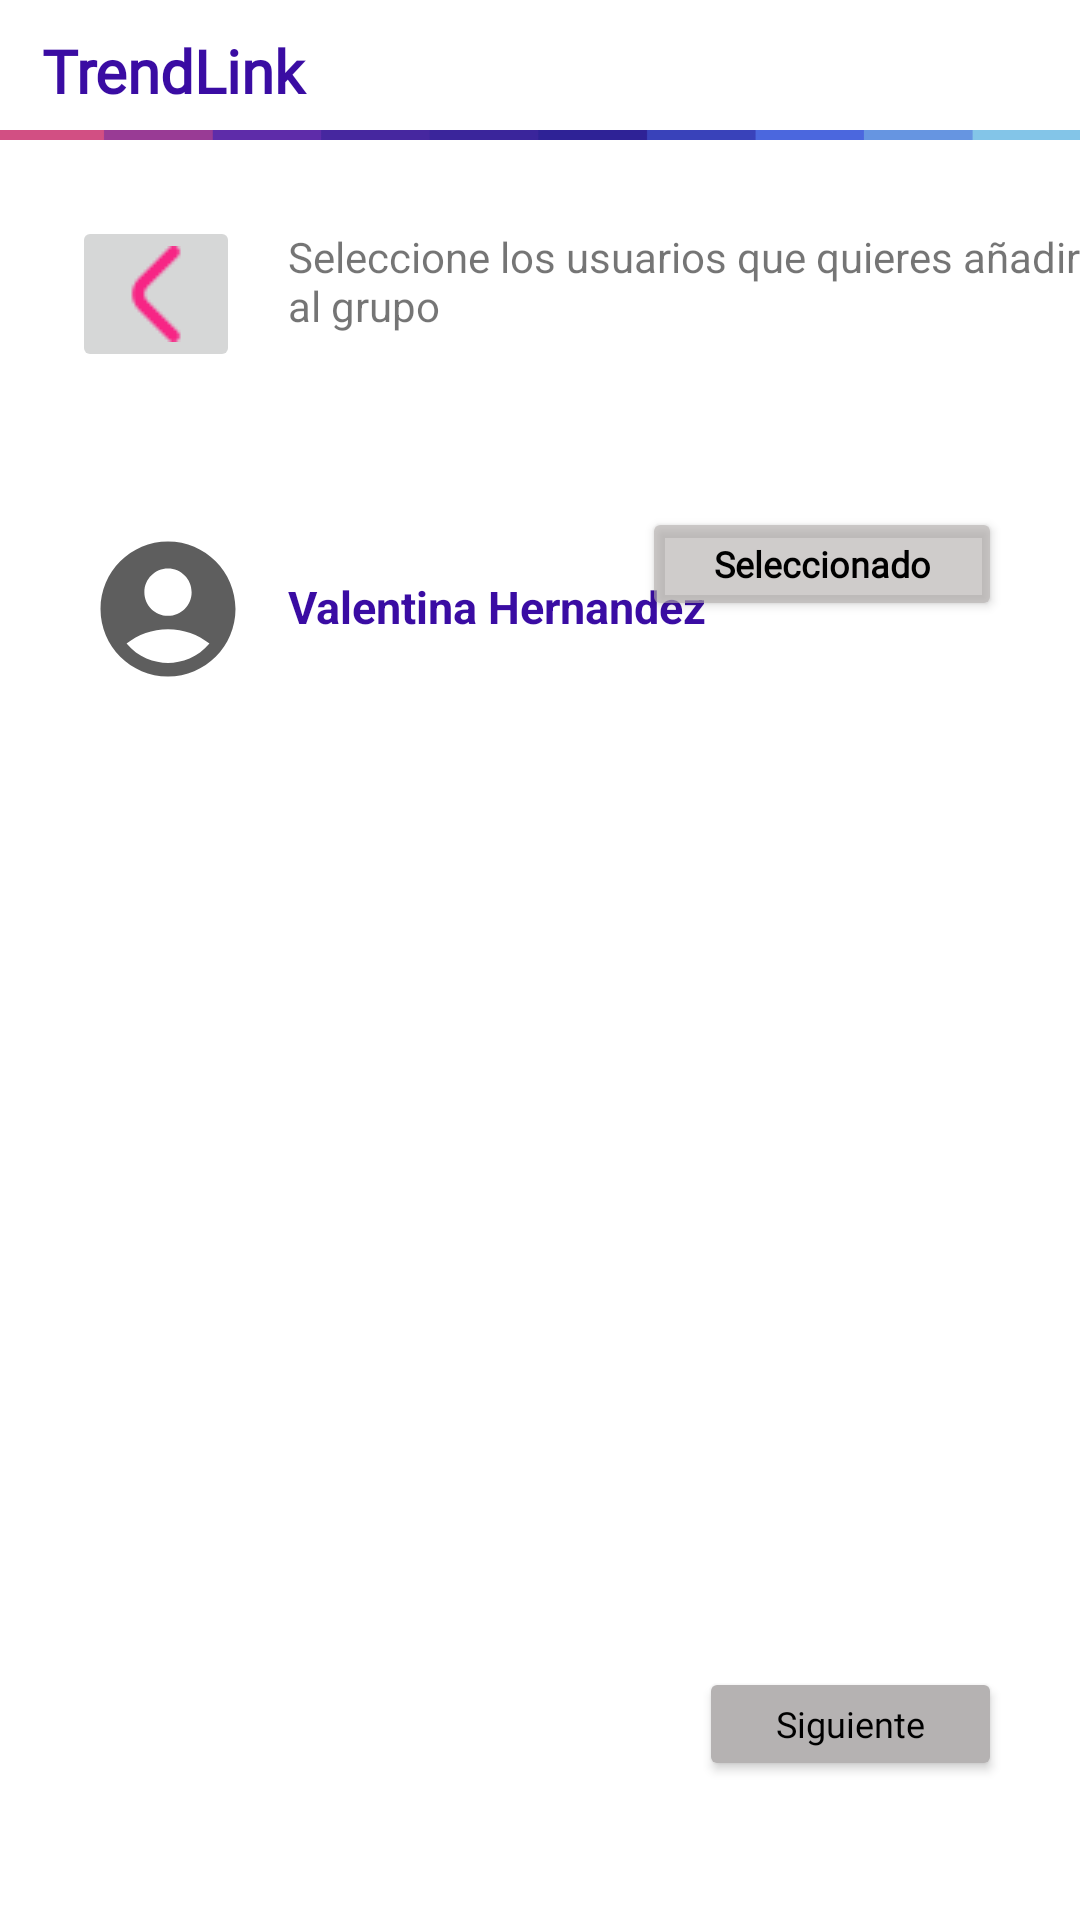

Screen size 1080x1920. Icon name, then its box in pixels as [x1, y1, x2, y2]:
angulo izquierdo: [84, 234, 228, 354]
usuario gris: [100, 541, 236, 677]
